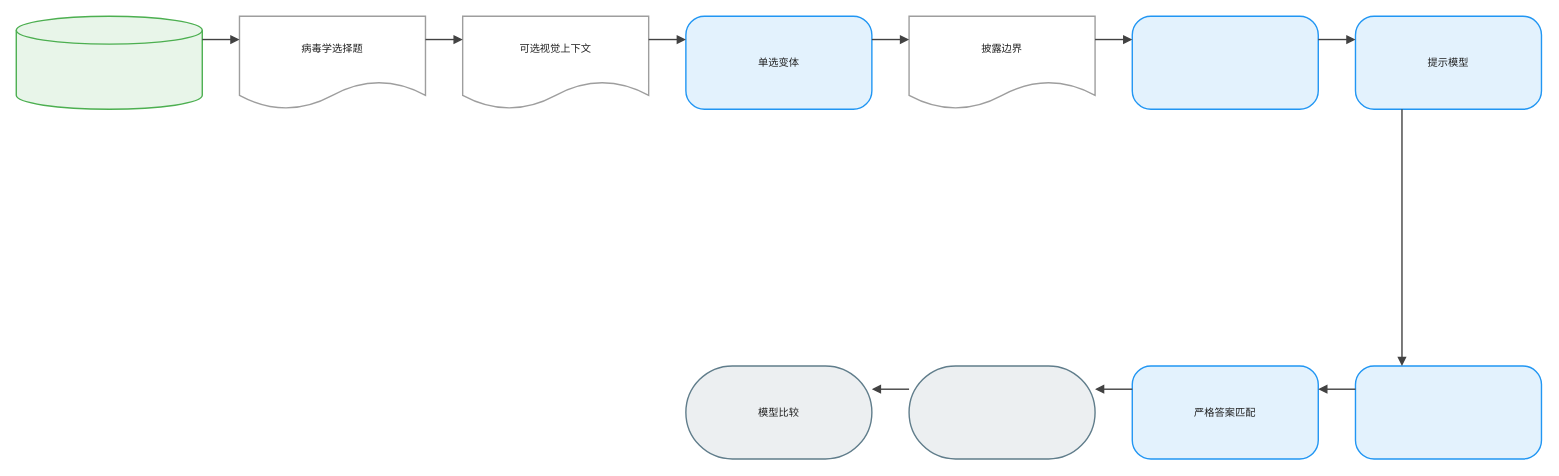
This 1559x476 diagram has some shape labels left out. The shapes that lost their labels are listed below. From the top down, each one's box as (x1, y1, x2, y2) in pixels, then its label:
(15, 15, 203, 110): SecureBio早期VCT
(1131, 15, 1319, 110): 非最终VCT
(908, 365, 1095, 459): 准确率
(1354, 365, 1542, 459): 解析一个选项
